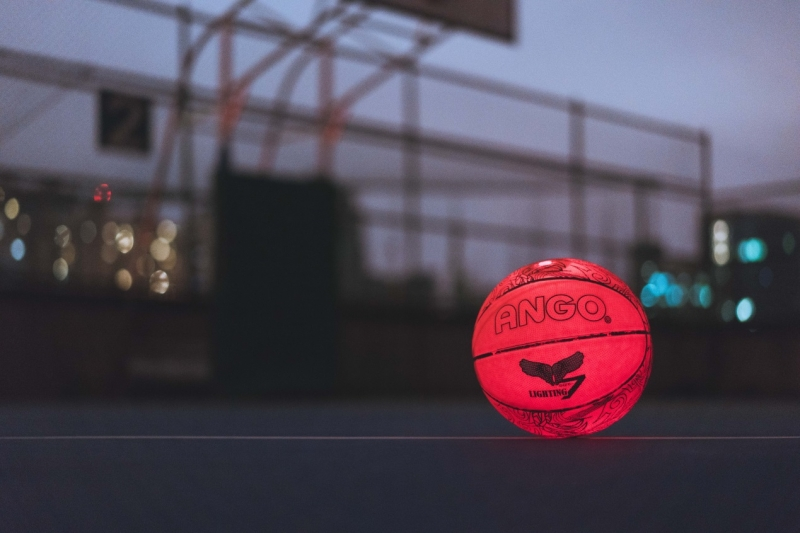ball: (470, 257, 653, 440)
